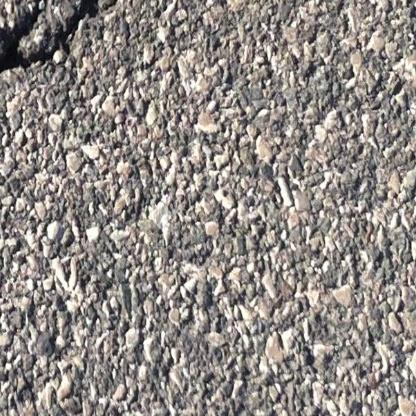Cracks: (0, 0, 142, 81)
